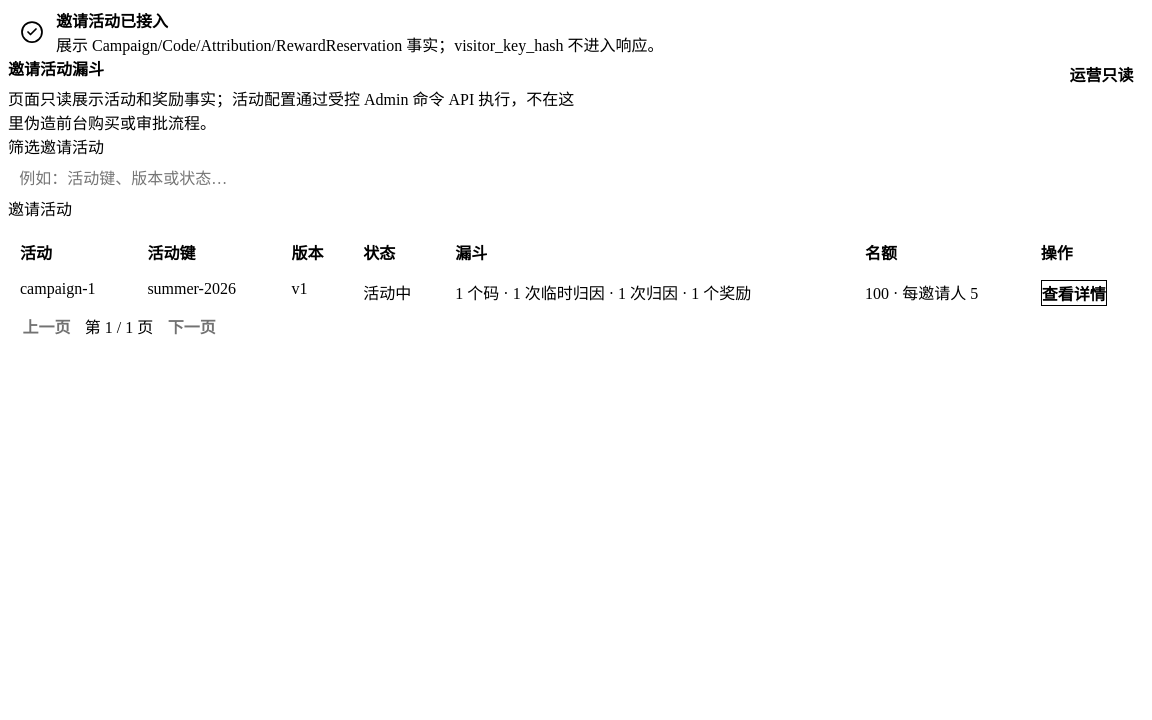
Test: AdminReferralsSurface › shows campaign funnel counts and redacted detail facts
Expected: the text "summer-2026" is shown, [135,272,280,314]
Expected: the text "页面只读展示活动和奖励事实；活动配置通过受控 Admin 命令 API 执行，不在这里伪造前台购买或审批流程。" is shown, [8,86,584,134]
Click the button with aria-label "查看活动详情 campaign-1": (1074, 293) [1041,280,1107,306]
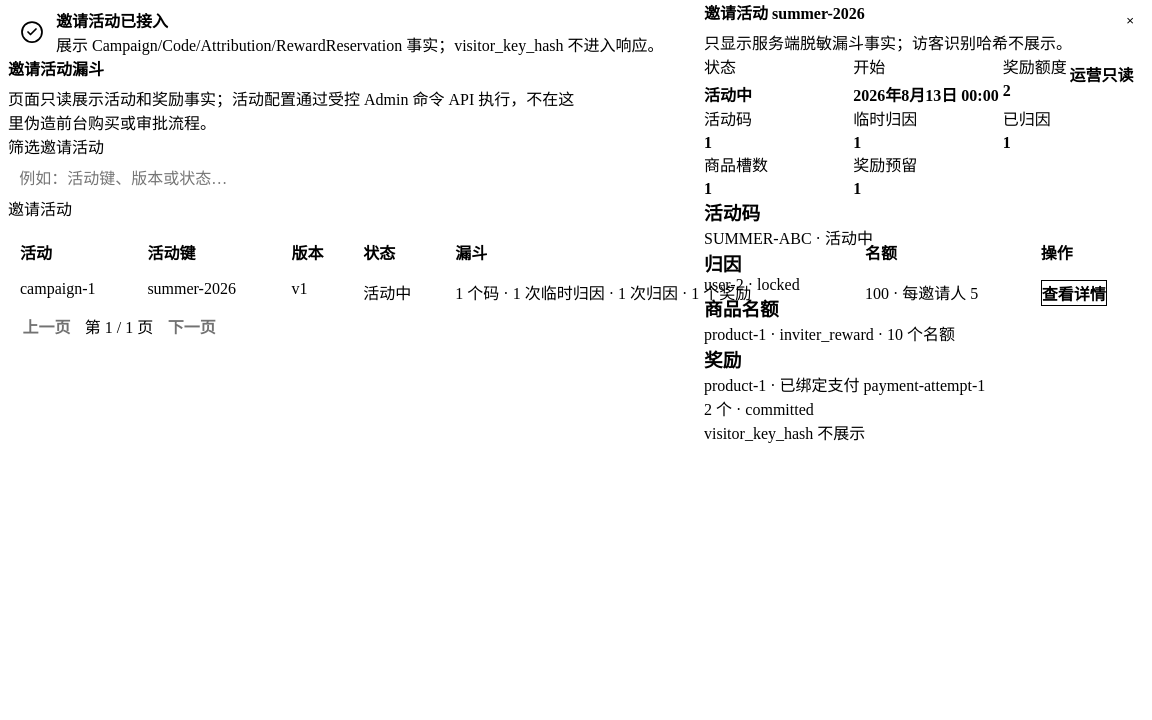
Now the text "SUMMER-ABC · 活动中" is shown, box [704,230,873,247]
Now the heading "商品名额" is shown, box [704,299,779,320]
Now the text "product-1 · inviter_reward · 10 个名额" is shown, box [704,326,955,343]
